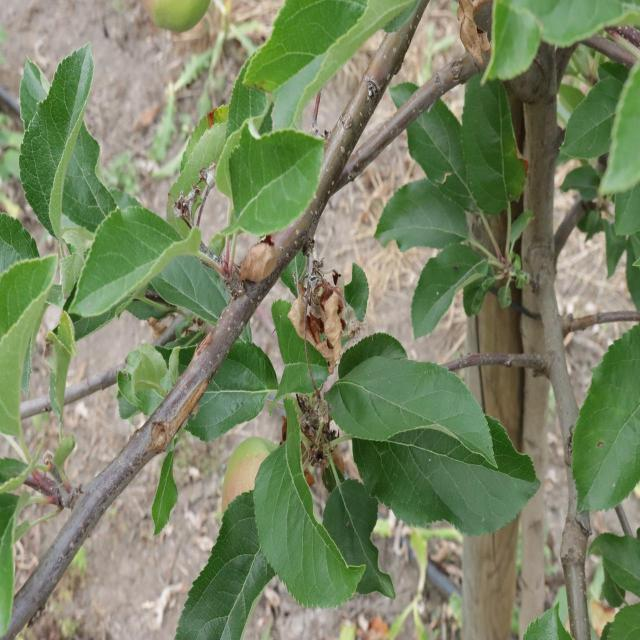-FireBlight-: (304, 398, 346, 498), (300, 278, 348, 354), (445, 0, 492, 64)
